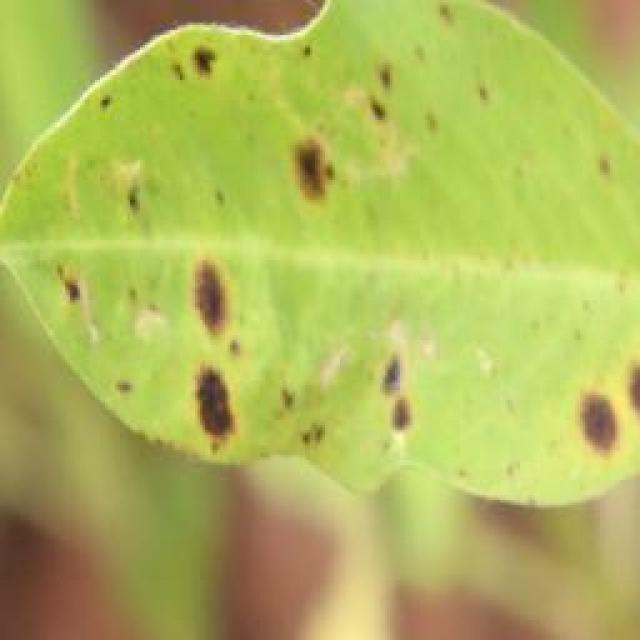Yellowish: (57, 2, 640, 495)
